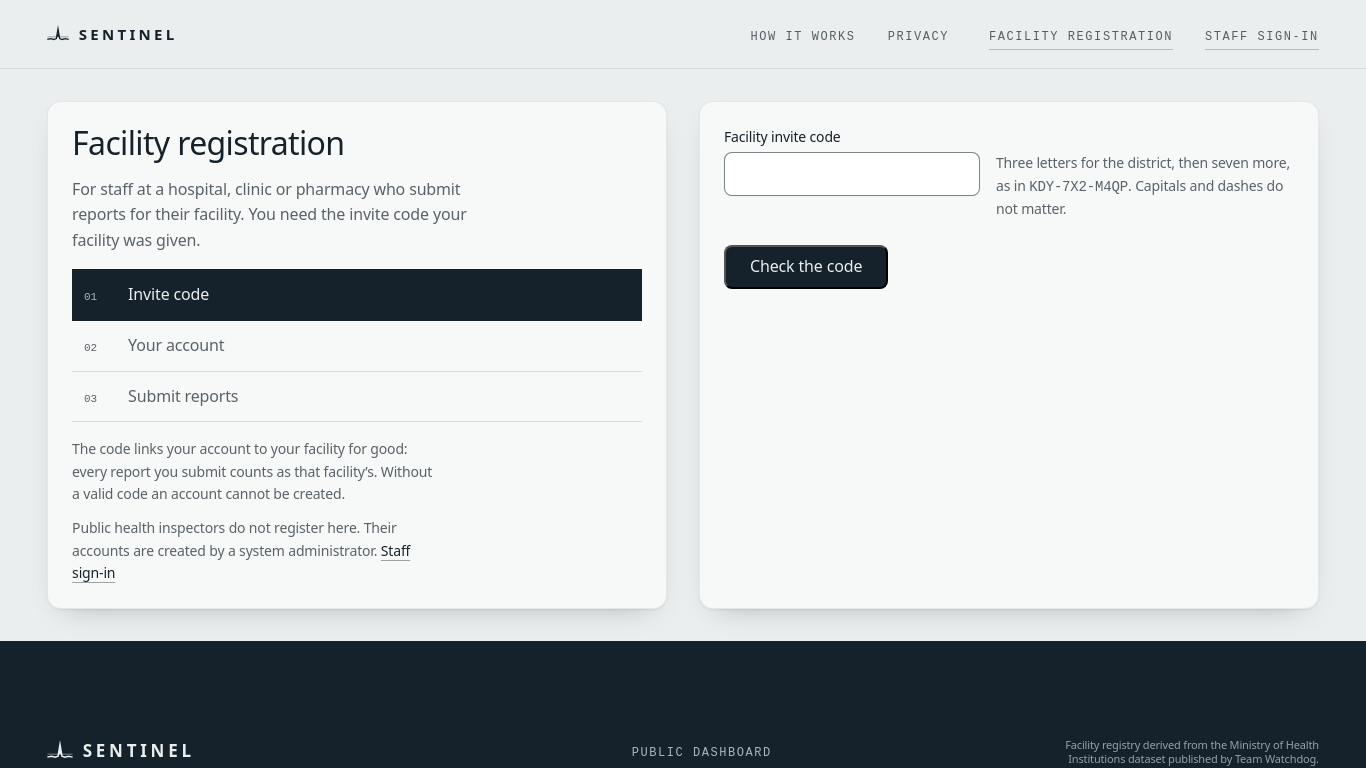
Test case: RegisterPage › shows a refused field beside the field
Type "KDY-7X2-M4QP" into the field labelled "Facility invite code" at (852,174), box top-left (724, 152), bottom-right (980, 196)
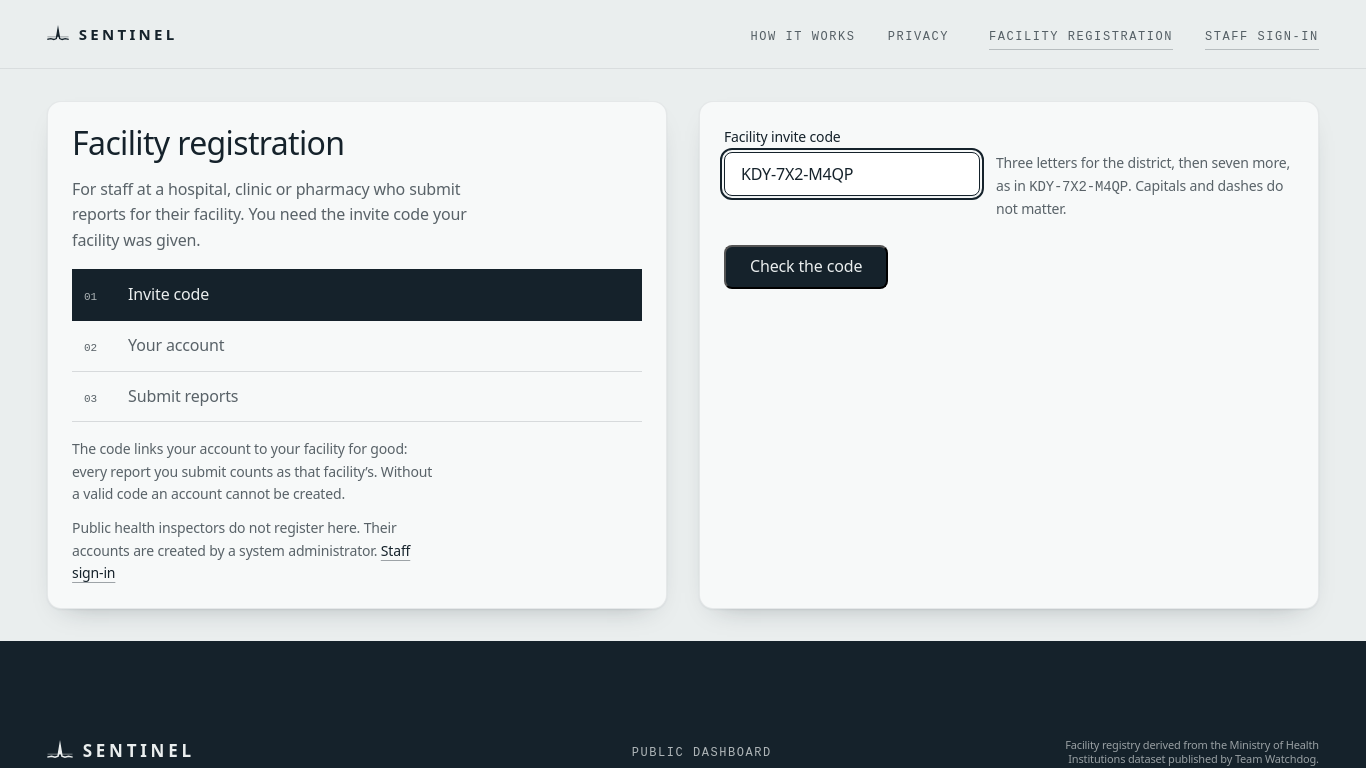
Click the button "Check the code" at (806,267), box top-left (724, 245), bottom-right (888, 289)
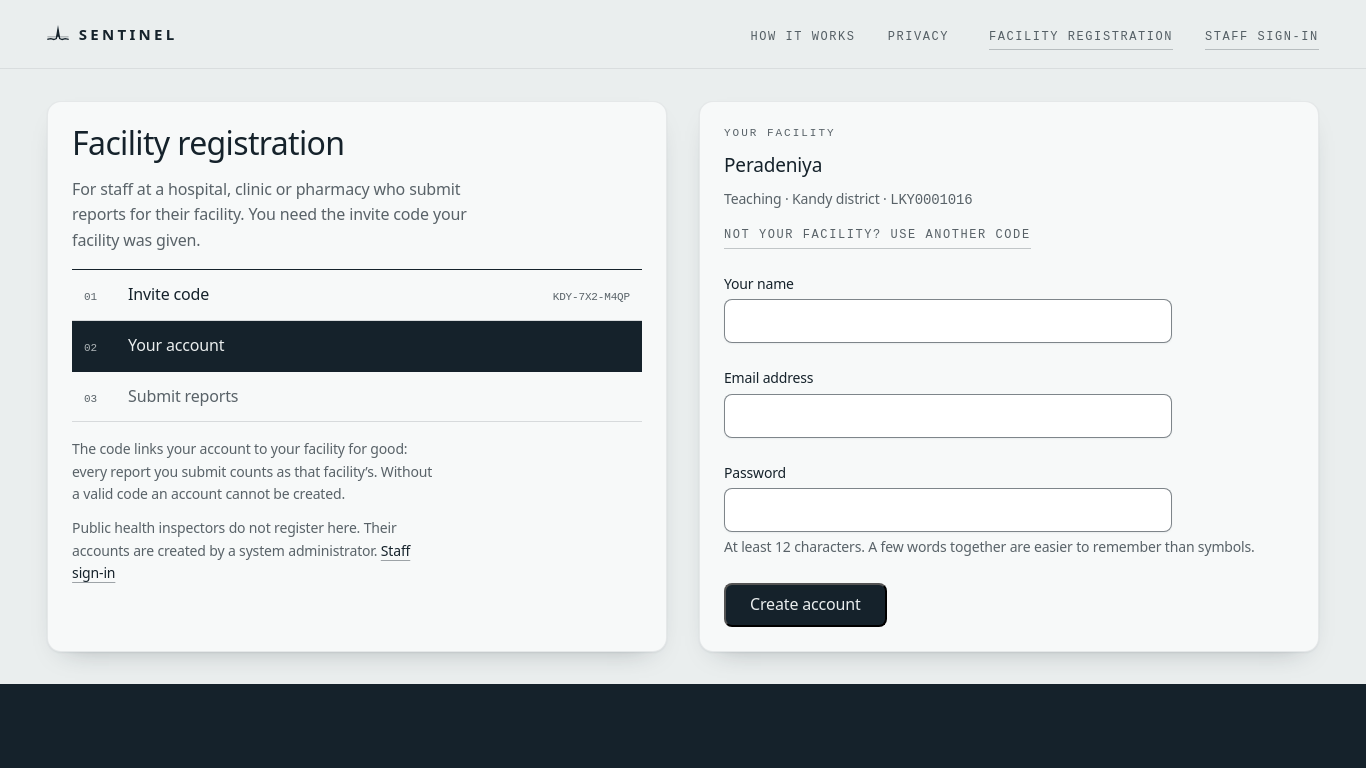
Type "Clinic staff" into the field labelled "Your name" at (948,322), box top-left (724, 300), bottom-right (1172, 344)
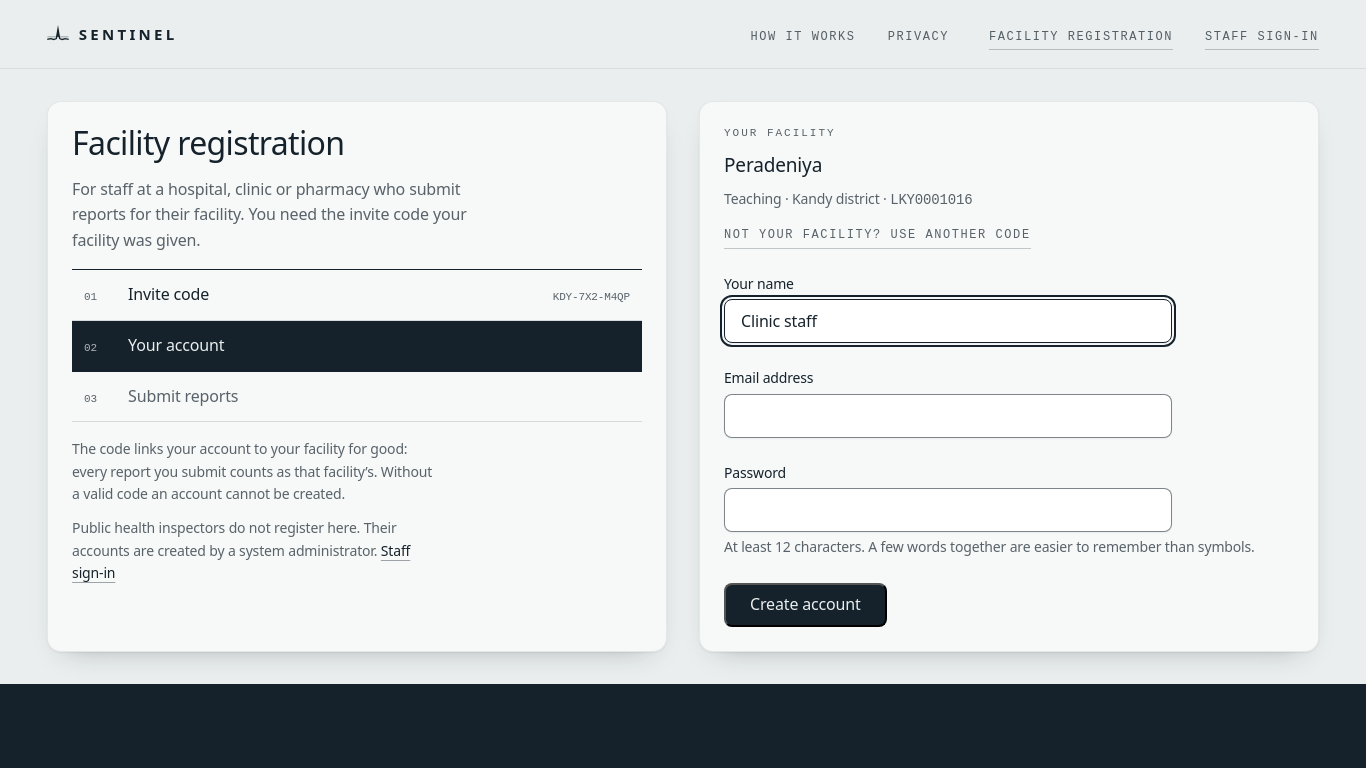
Type "clinic@example.org" into the field labelled "Email address" at (948,416), box top-left (724, 394), bottom-right (1172, 438)
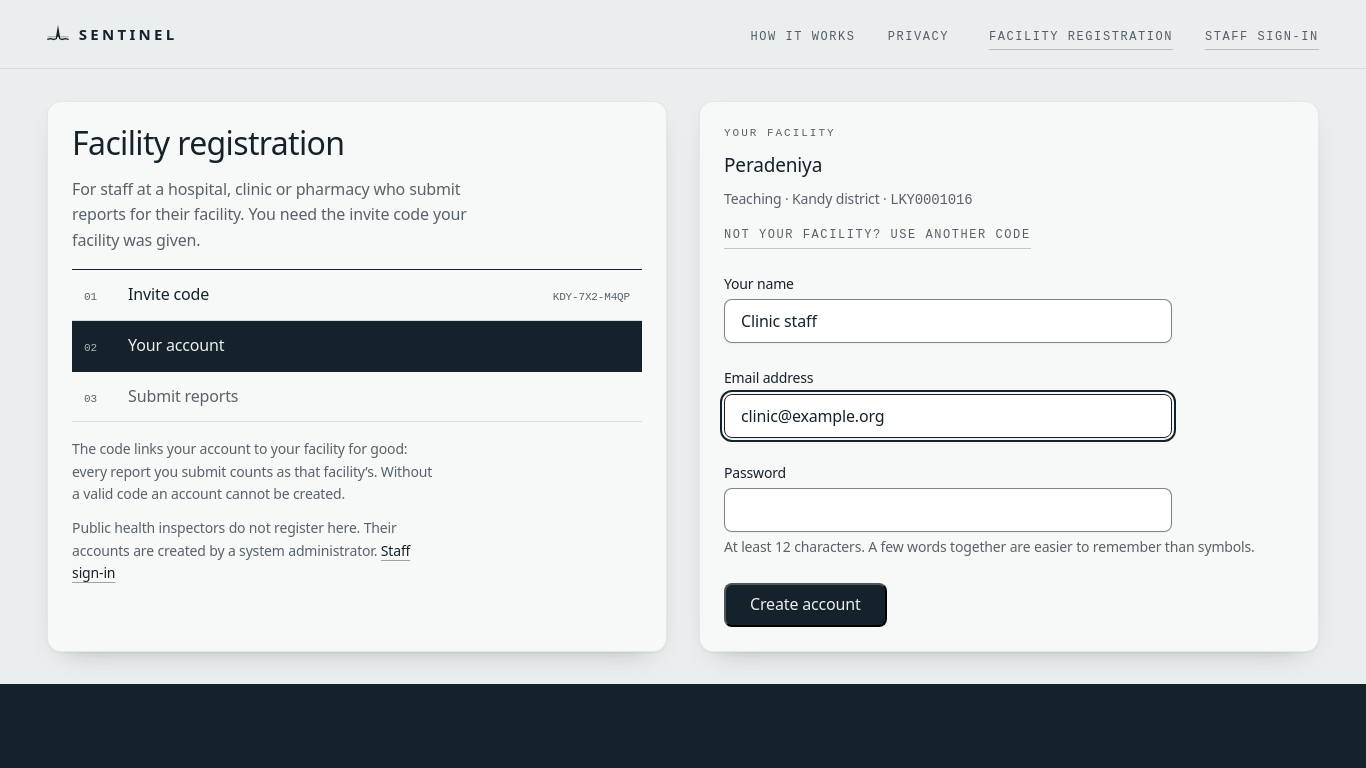
Type "too short" into the password field labelled "Password" at (948,510), box top-left (724, 488), bottom-right (1172, 532)
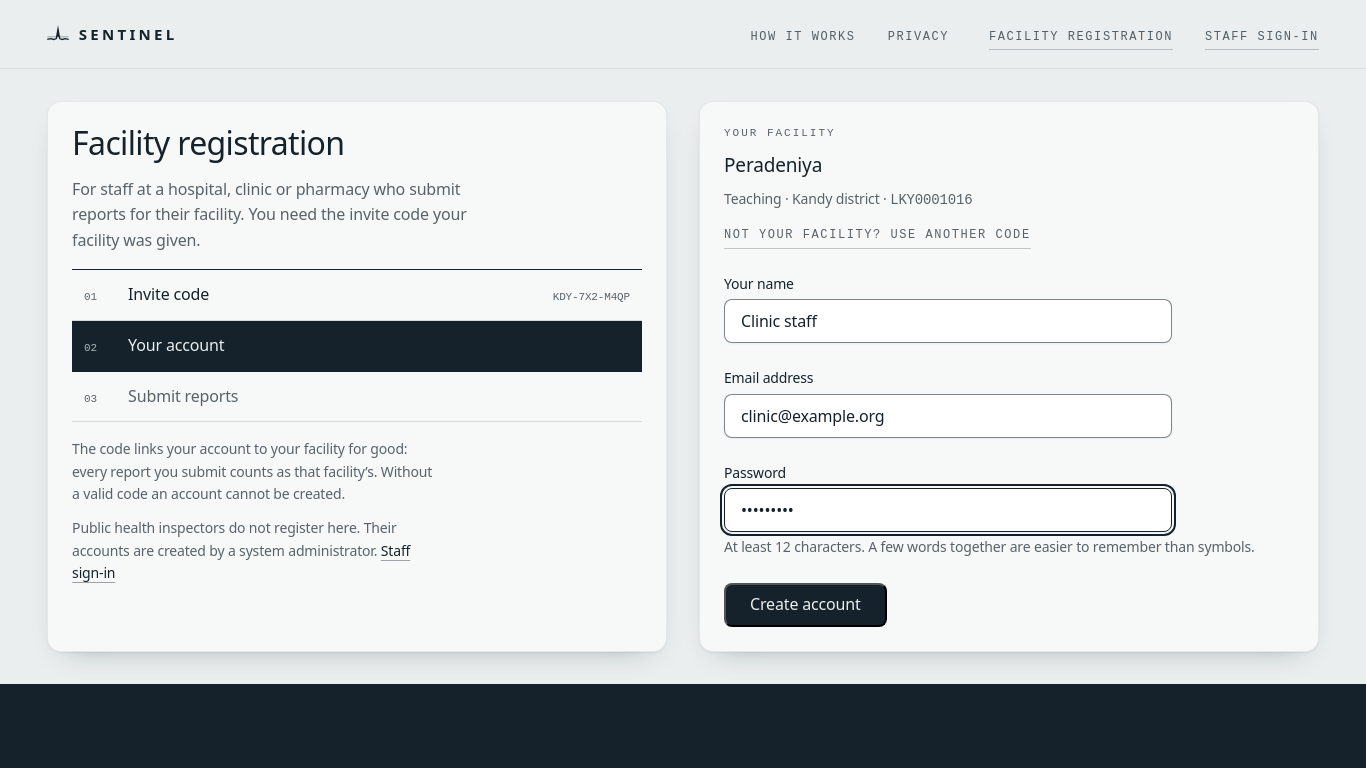
Click the button "Create account" at (805,605), box top-left (724, 583), bottom-right (887, 627)
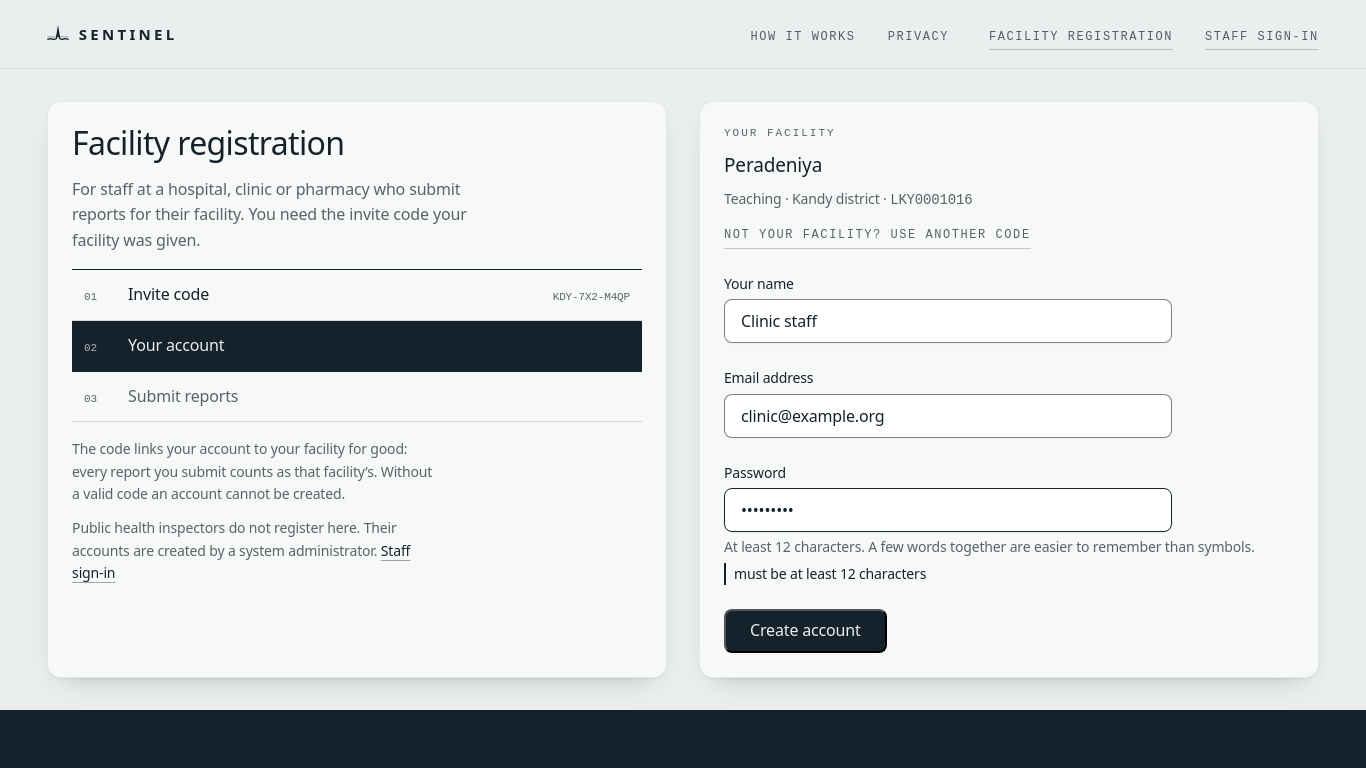
Result: the text "must be at least 12 characters" is shown at top-left (724, 563), bottom-right (1294, 585)
